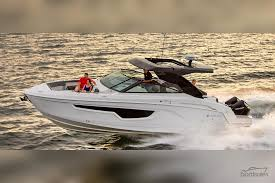boat: (22, 55, 254, 140)
